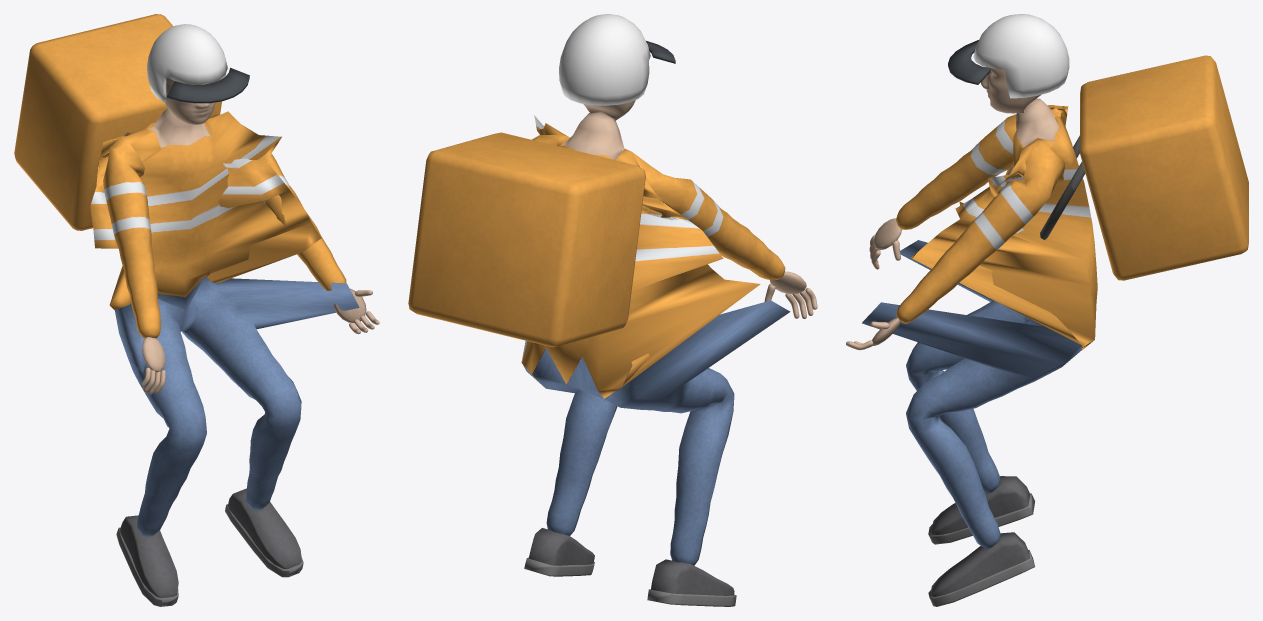
File: SEAT_Rider.fbx
The picture shows the model from 3 angles, left to right: view 1: azimuth 30°, elevation 25°; view 2: azimuth 150°, elevation 25°; view 3: azimuth 270°, elevation 25°; orthographic projection. The views are drawn at different scales.
Parts seen in each view (by area): view 1: SEAT_Rider; view 2: SEAT_Rider; view 3: SEAT_Rider.
Boxes of the visible parts, x1,y1,x2,y2 form: SEAT_Rider: [14, 14, 379, 606]; SEAT_Rider: [408, 14, 817, 606]; SEAT_Rider: [846, 14, 1248, 606].
Size of the model in its own units: 0.7228 by 1.59 by 1.05.
Materials: 1 (1 with a texture image).
